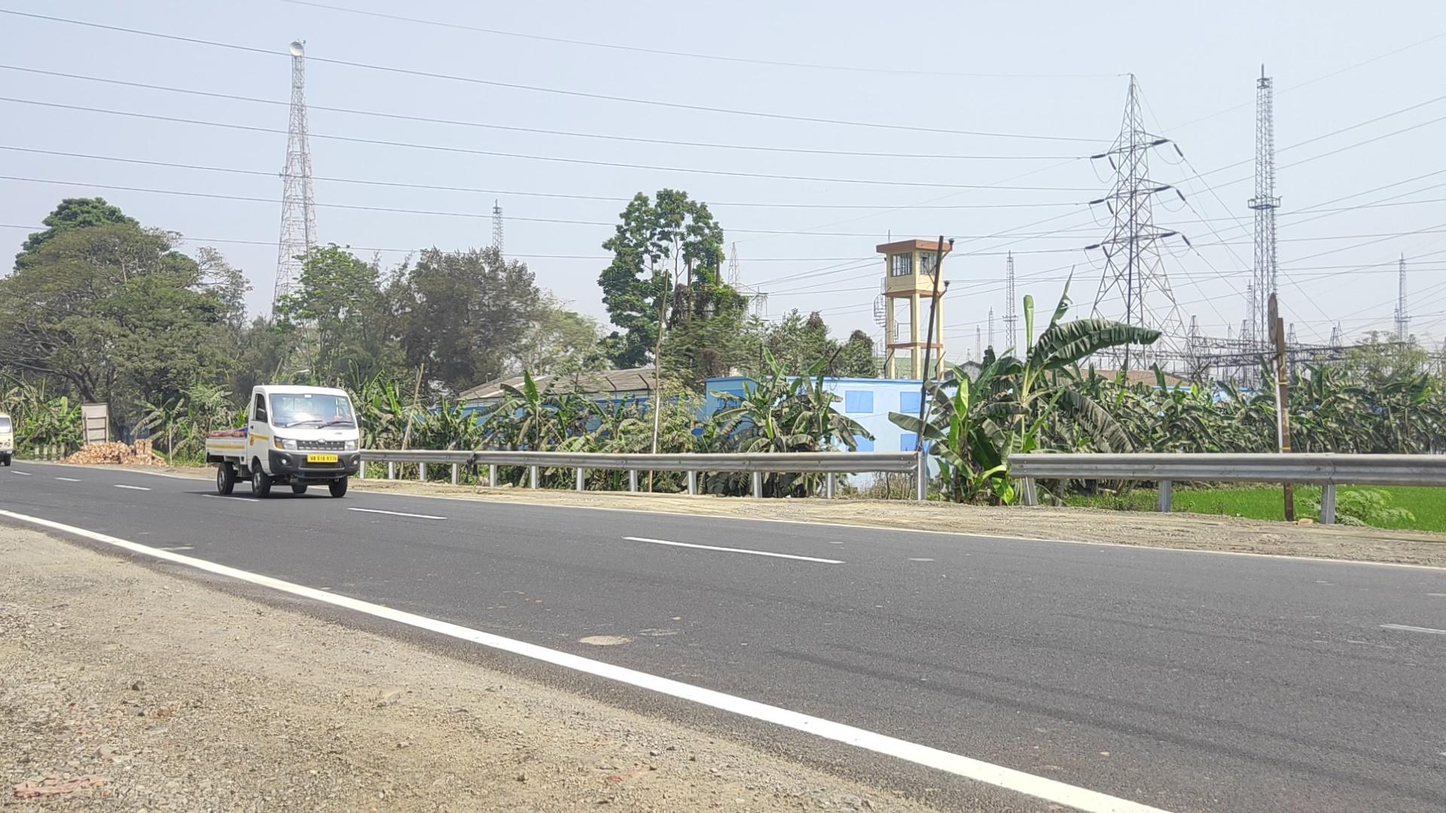van: (204, 385, 361, 499)
